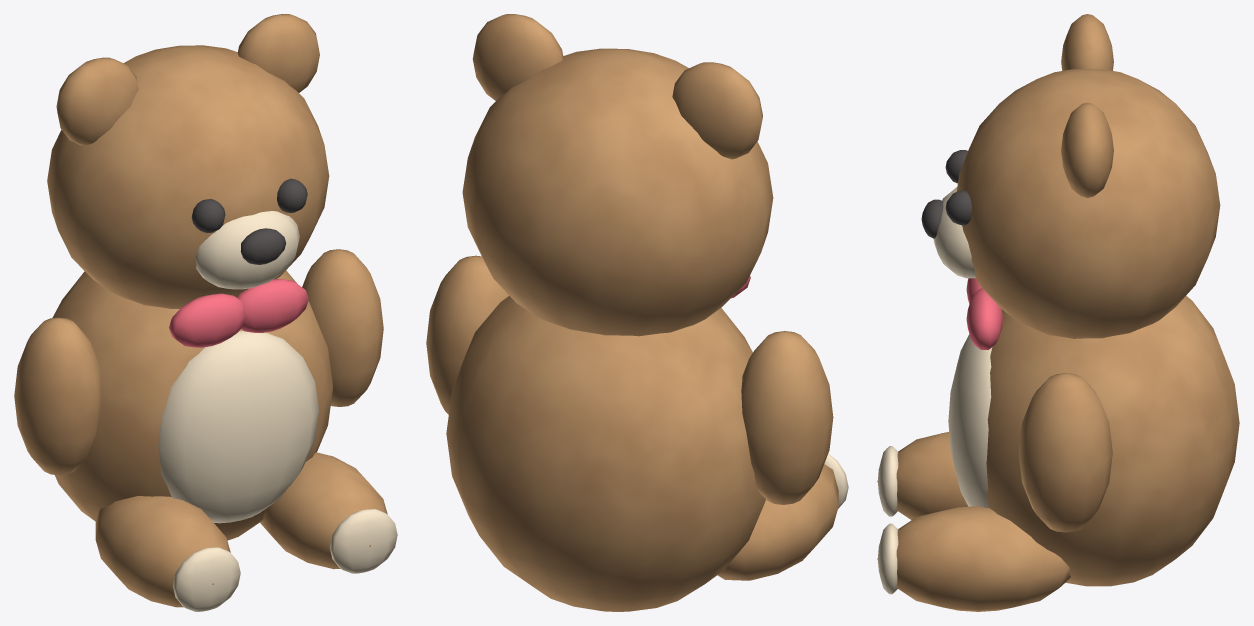
The model's file is boneka_beruang.fbx.
3 views of the same model, side by side, from view 1: azimuth 30°, elevation 25°; view 2: azimuth 150°, elevation 25°; view 3: azimuth 270°, elevation 25° (orthographic). The views are drawn at different scales.
Visible parts, largest first — view 1: boneka_beruang; view 2: boneka_beruang; view 3: boneka_beruang.
Boxes of the visible parts, box(x1,y1,x2,y2) form: boneka_beruang: box(14, 14, 397, 611); boneka_beruang: box(426, 14, 848, 611); boneka_beruang: box(877, 14, 1239, 611).
Size of the model in its own units: 19.08 by 25.82 by 16.58.
1 material, 1 textured.
